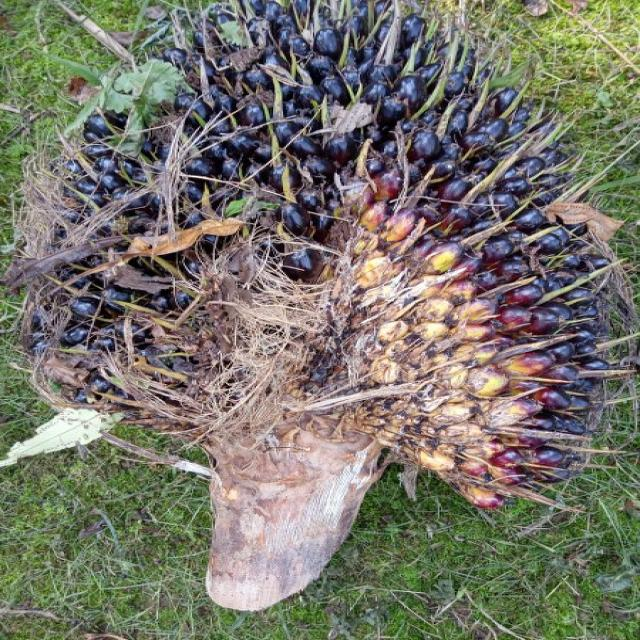fraksi 00: (9, 12, 624, 573)
